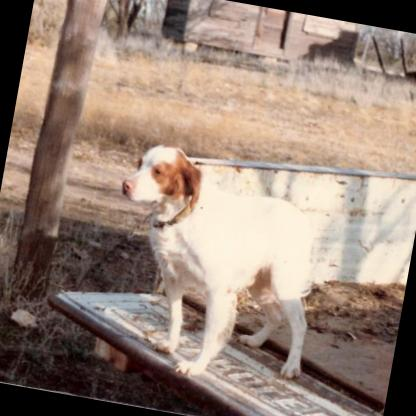Brittany_spaniel: (88, 139, 334, 394)
